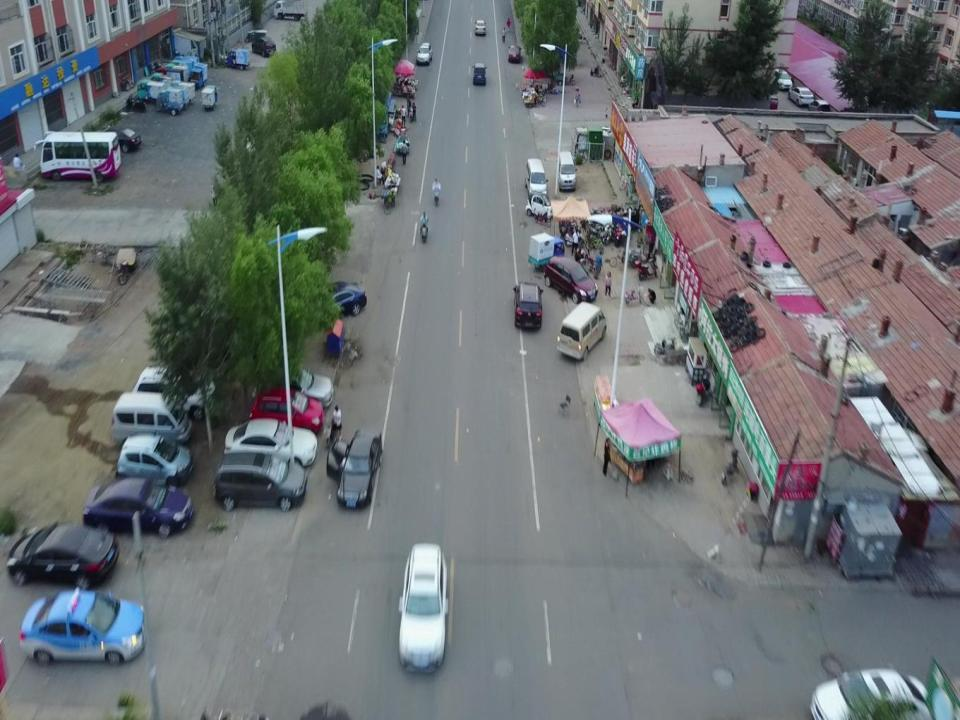bus: (38, 129, 122, 183)
car: (19, 590, 145, 666), (7, 524, 118, 590), (806, 664, 935, 720), (396, 543, 448, 674), (82, 477, 193, 536), (213, 452, 309, 512), (132, 365, 214, 421), (225, 420, 316, 468), (336, 427, 383, 510), (118, 434, 192, 486), (247, 386, 324, 434), (298, 280, 366, 330), (266, 364, 335, 408), (546, 254, 598, 303), (513, 284, 542, 330), (98, 128, 142, 153), (526, 192, 554, 222), (810, 99, 834, 128), (787, 85, 815, 107), (251, 35, 277, 56), (770, 69, 794, 90), (415, 42, 432, 64), (506, 42, 521, 66), (472, 64, 486, 87), (474, 18, 486, 35)
truck: (528, 232, 565, 268), (370, 90, 394, 134), (158, 62, 190, 86), (156, 88, 184, 113), (274, 0, 309, 20), (170, 79, 196, 105), (138, 79, 165, 103), (170, 58, 196, 82), (225, 49, 251, 71), (175, 55, 200, 76), (191, 62, 208, 90), (151, 74, 174, 94), (202, 85, 218, 109)
van: (112, 390, 192, 444), (556, 302, 607, 363), (524, 157, 548, 200), (558, 151, 576, 191)
